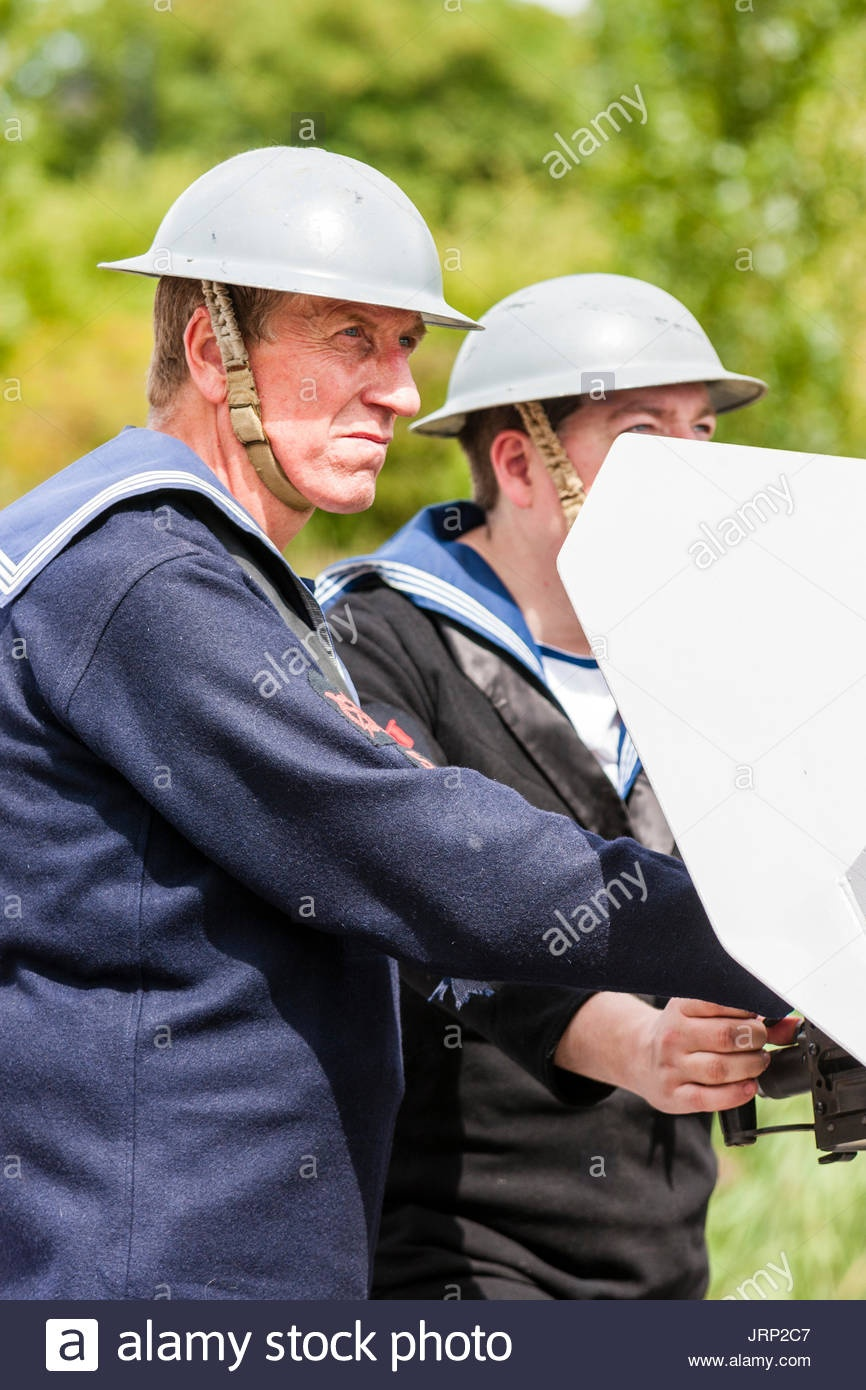white: (134, 140, 443, 524), (448, 269, 746, 636)
